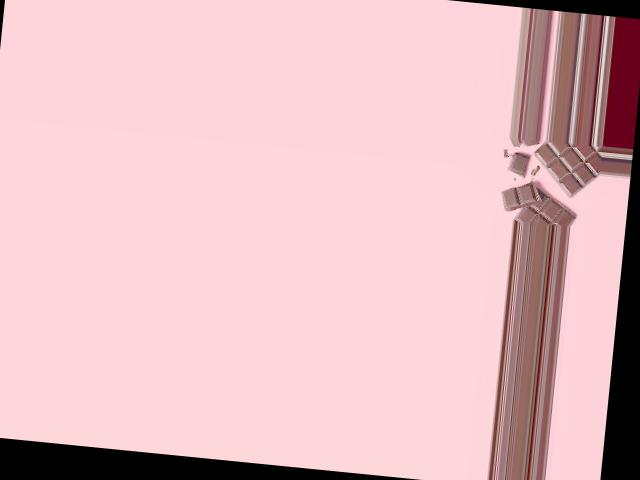chocolate: (505, 138, 603, 224)
